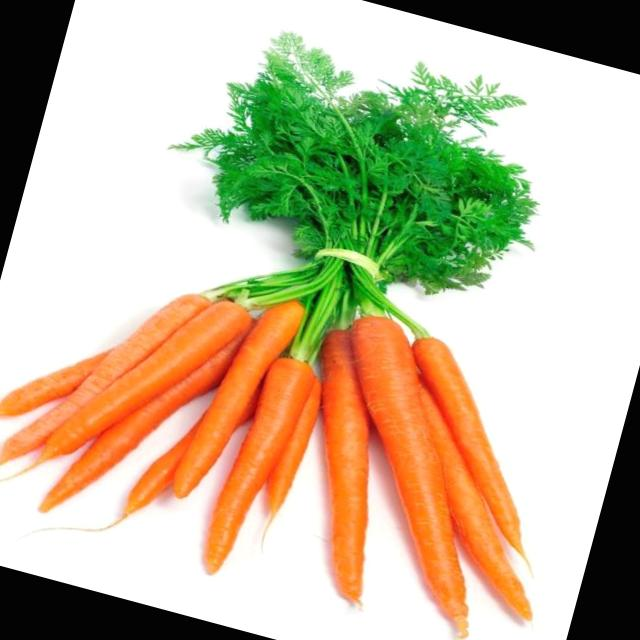carrot: (349, 318, 465, 630), (40, 303, 251, 461), (168, 299, 307, 503), (204, 356, 319, 575), (418, 339, 521, 554)
